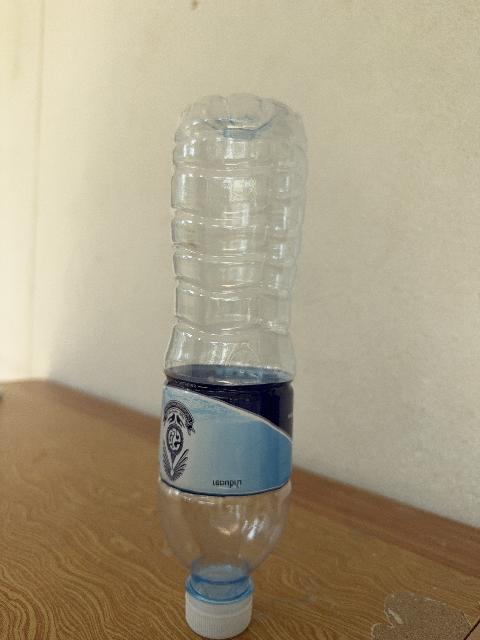bottle: (158, 95, 306, 638)
